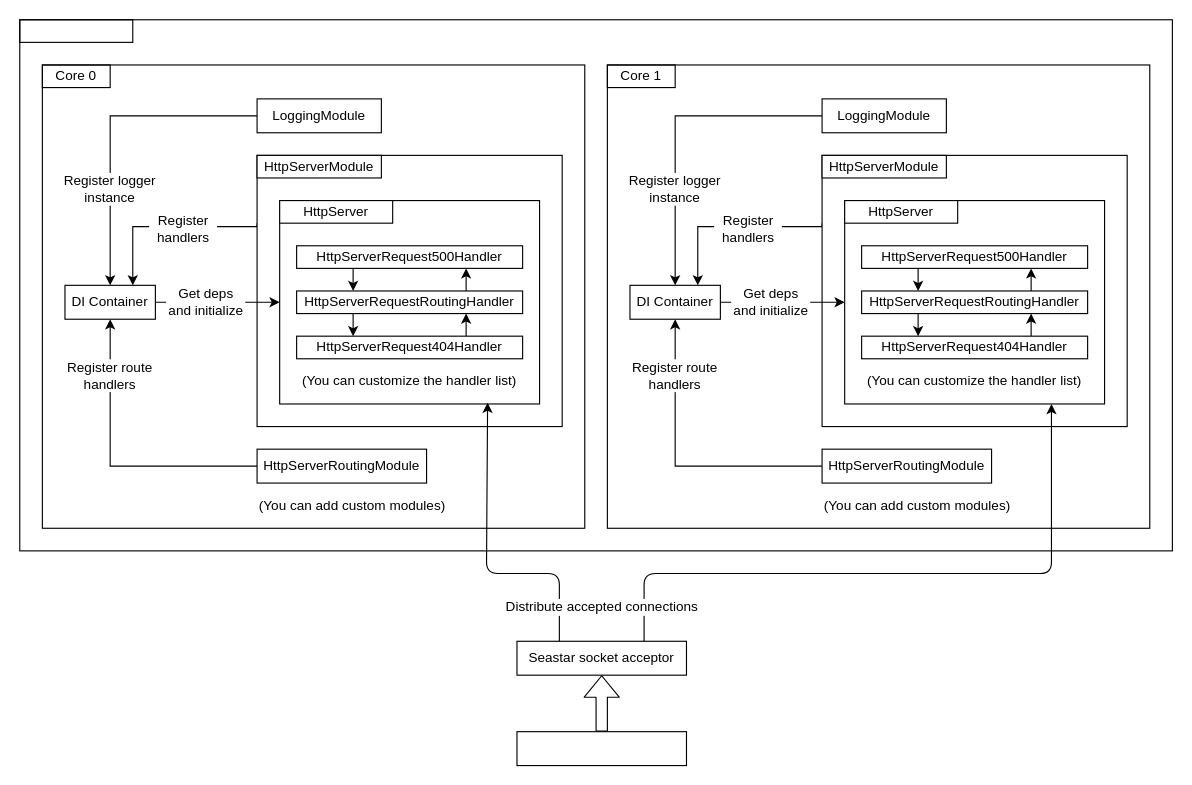
This 1192x785 diagram has some shape labels left out. The centre of each missing label's shape, as x and y in pixels:
cpv::Application: the point at 76,30
Visitor (Brower, curl, ...): the point at 601,748
